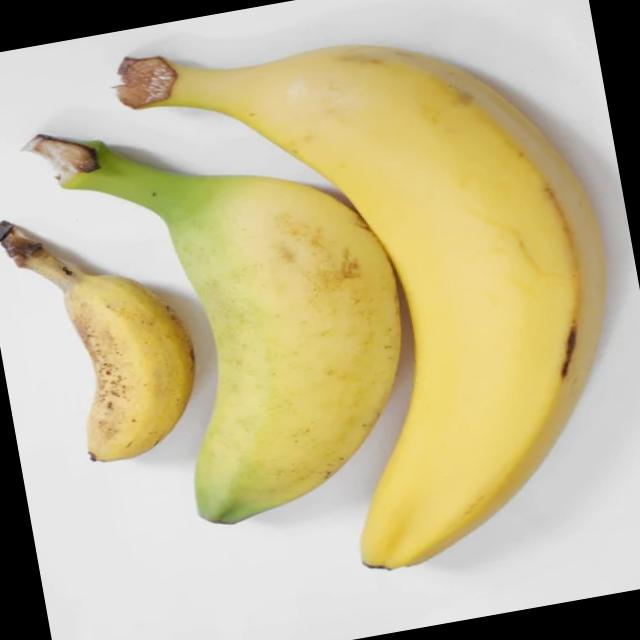chuoi: (29, 45, 603, 568), (0, 226, 193, 460)
